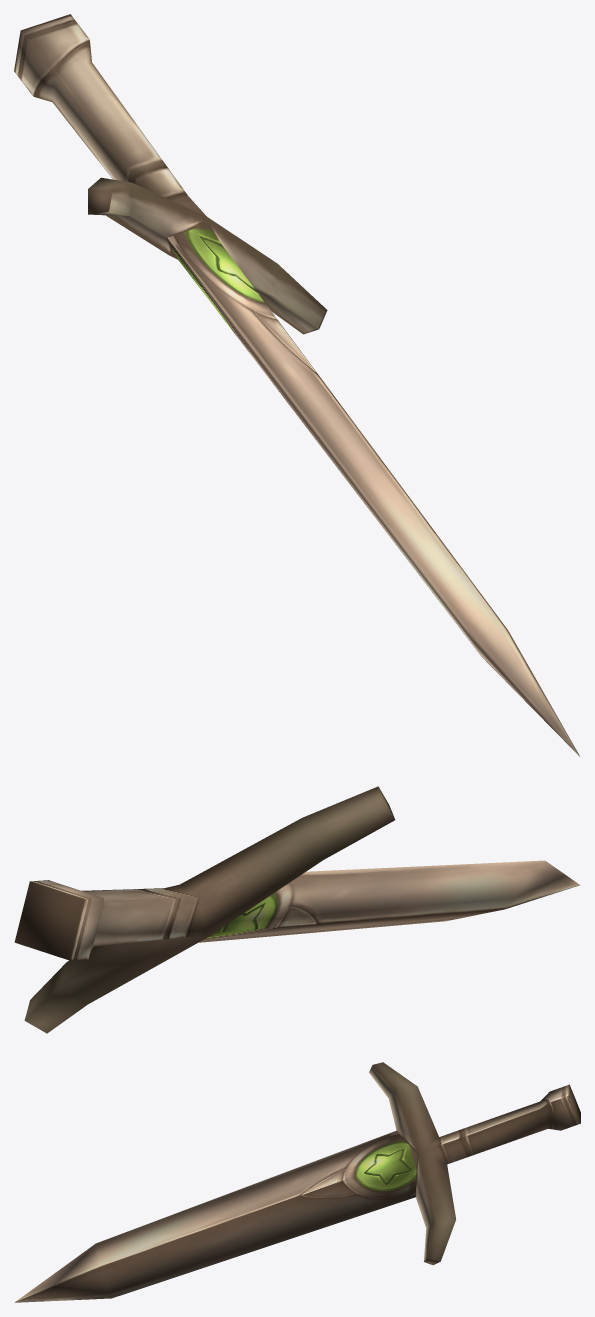
File: Sword(43).obj
3 renders of one model, top to bottom at view 1: azimuth 30°, elevation 25°; view 2: azimuth 150°, elevation 25°; view 3: azimuth 270°, elevation 25°, orthographic. The views are drawn at different scales.
Parts seen in each view (by area): view 1: sword1_LOD003; view 2: sword1_LOD003; view 3: sword1_LOD003.
Part boxes in pixels (x1=…): sword1_LOD003: x1=14, y1=14, x2=579, y2=756; sword1_LOD003: x1=14, y1=786, x2=579, y2=1033; sword1_LOD003: x1=14, y1=1062, x2=580, y2=1302.
Size of the model in its own units: 0.4147 by 0.5194 by 1.3.
